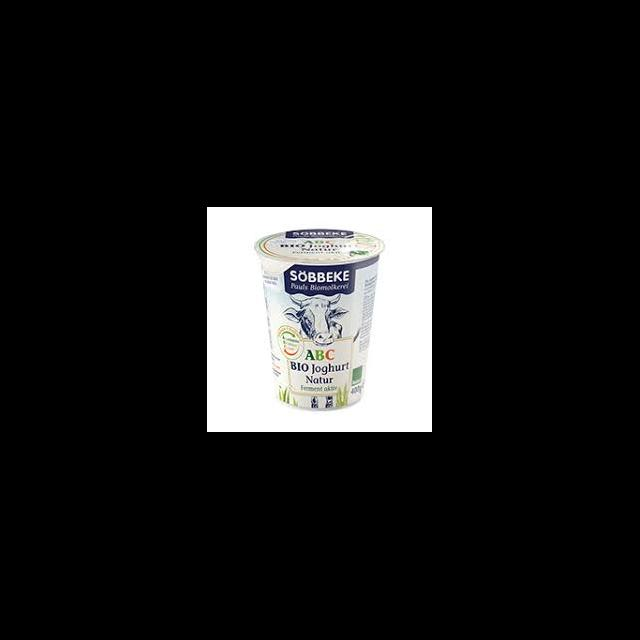plastic: (253, 228, 384, 410)
